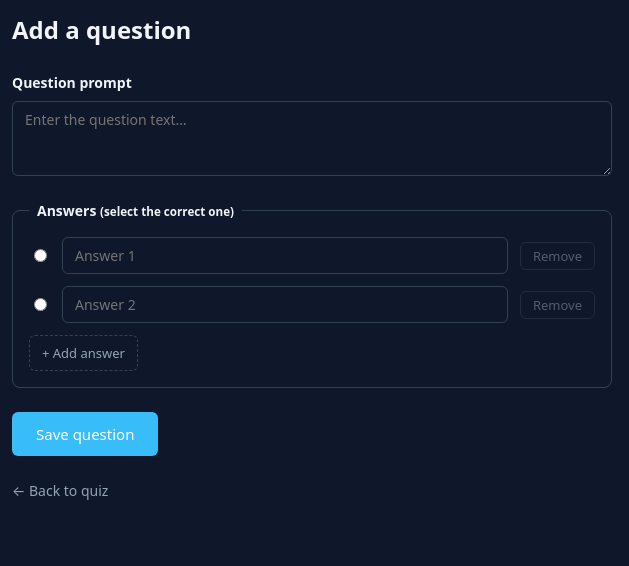
Test: Add question page › removes an answer row when Remove is clicked and more than 2 answers exist
The width and height of the screenshot is (629, 566).
Note: Add a third answer first
Step 1. Click the button "+ Add answer" → click(84, 353), box [29,335,138,371]
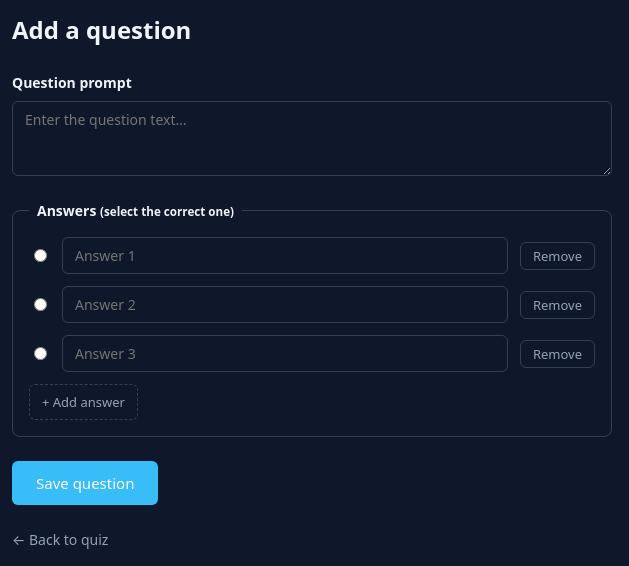
Result: the number of elements with class "answer-row" is 3 at [29,237,595,274]; [29,286,595,323]; [29,335,595,372]
Note: Remove the last one
Step 2. Click the 3rd button "Remove" → click(557, 354), box [520,340,595,368]
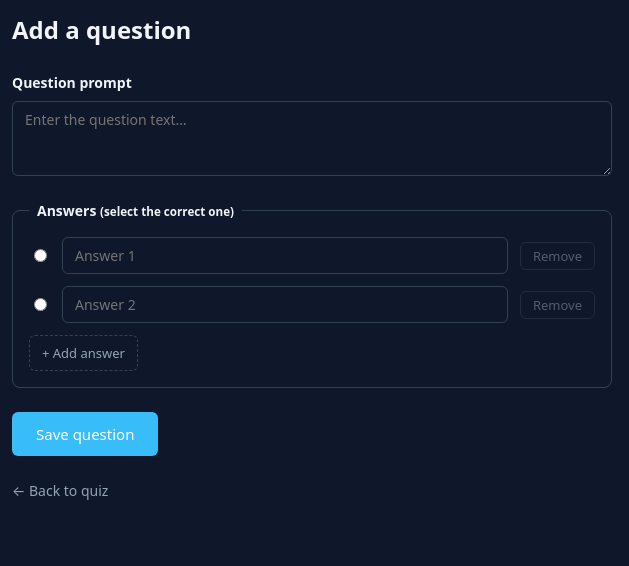
Result: the number of elements with class "answer-row" is 2 at [29,237,595,274]; [29,286,595,323]
